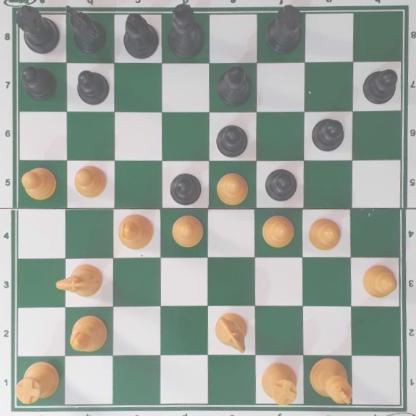black-bishop: (121, 10, 158, 59), (218, 63, 251, 106)
black-king: (166, 1, 204, 57)
black-knight: (68, 3, 106, 55)
black-pawn: (362, 67, 398, 105), (19, 63, 54, 98), (76, 67, 108, 104), (214, 122, 248, 156), (311, 115, 344, 150), (265, 166, 297, 201), (168, 170, 201, 203)
black-rook: (13, 1, 59, 53), (263, 4, 303, 54)
white-bishop: (68, 312, 106, 354), (117, 212, 151, 249)
white-king: (309, 355, 351, 404)
white-knight: (55, 264, 104, 298), (213, 310, 249, 353)
white-pawn: (360, 263, 397, 299), (306, 215, 340, 250), (72, 163, 106, 197), (21, 166, 56, 199), (212, 171, 248, 203), (260, 213, 293, 247), (170, 212, 202, 246)
white-rook: (13, 359, 58, 402), (261, 362, 297, 404)
